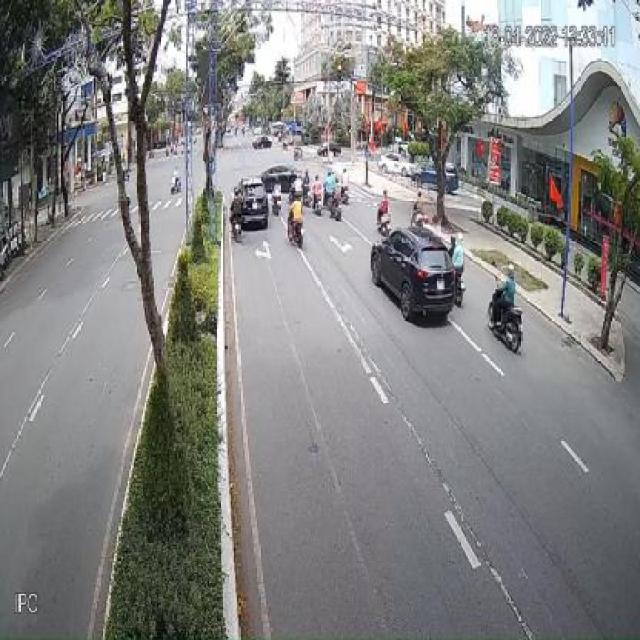car: (374, 230, 454, 326), (240, 180, 268, 231)
motorbike: (489, 266, 524, 356), (287, 202, 304, 248), (228, 194, 243, 242), (376, 189, 392, 233), (269, 180, 284, 212)
